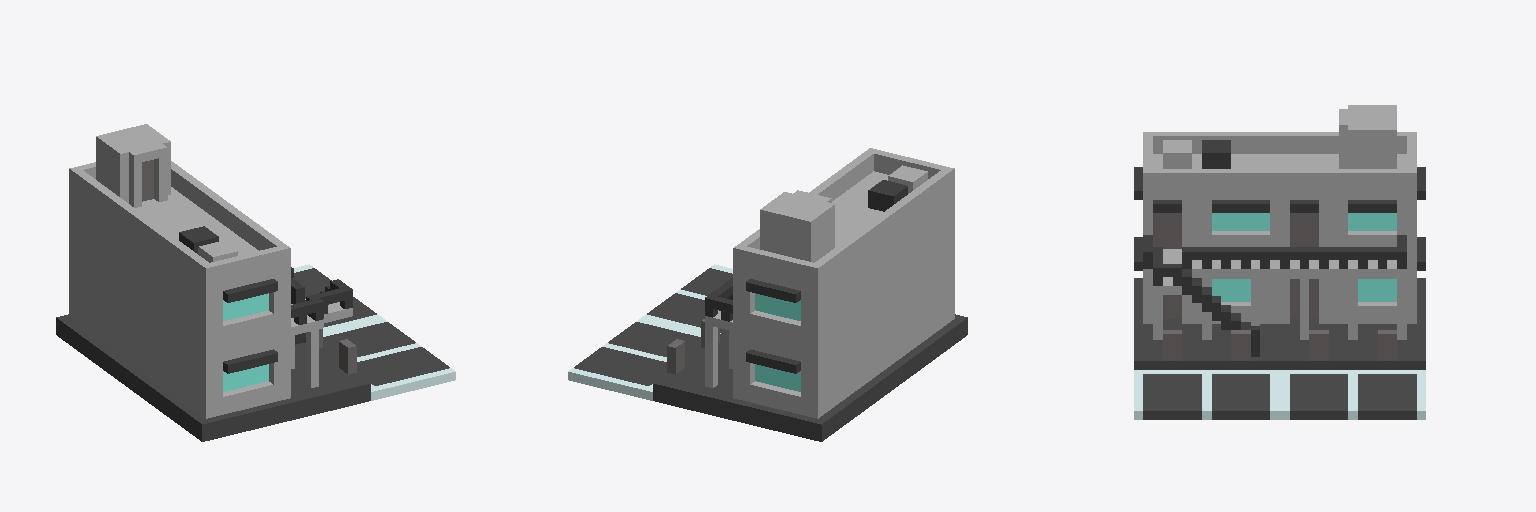
The picture shows the model from 3 angles: view 1: azimuth 30°, elevation 25°; view 2: azimuth 150°, elevation 25°; view 3: azimuth 270°, elevation 25°; orthographic projection.
Size of the model in its own units: 30 by 23 by 30.
Materials: 1 (1 with a texture image).